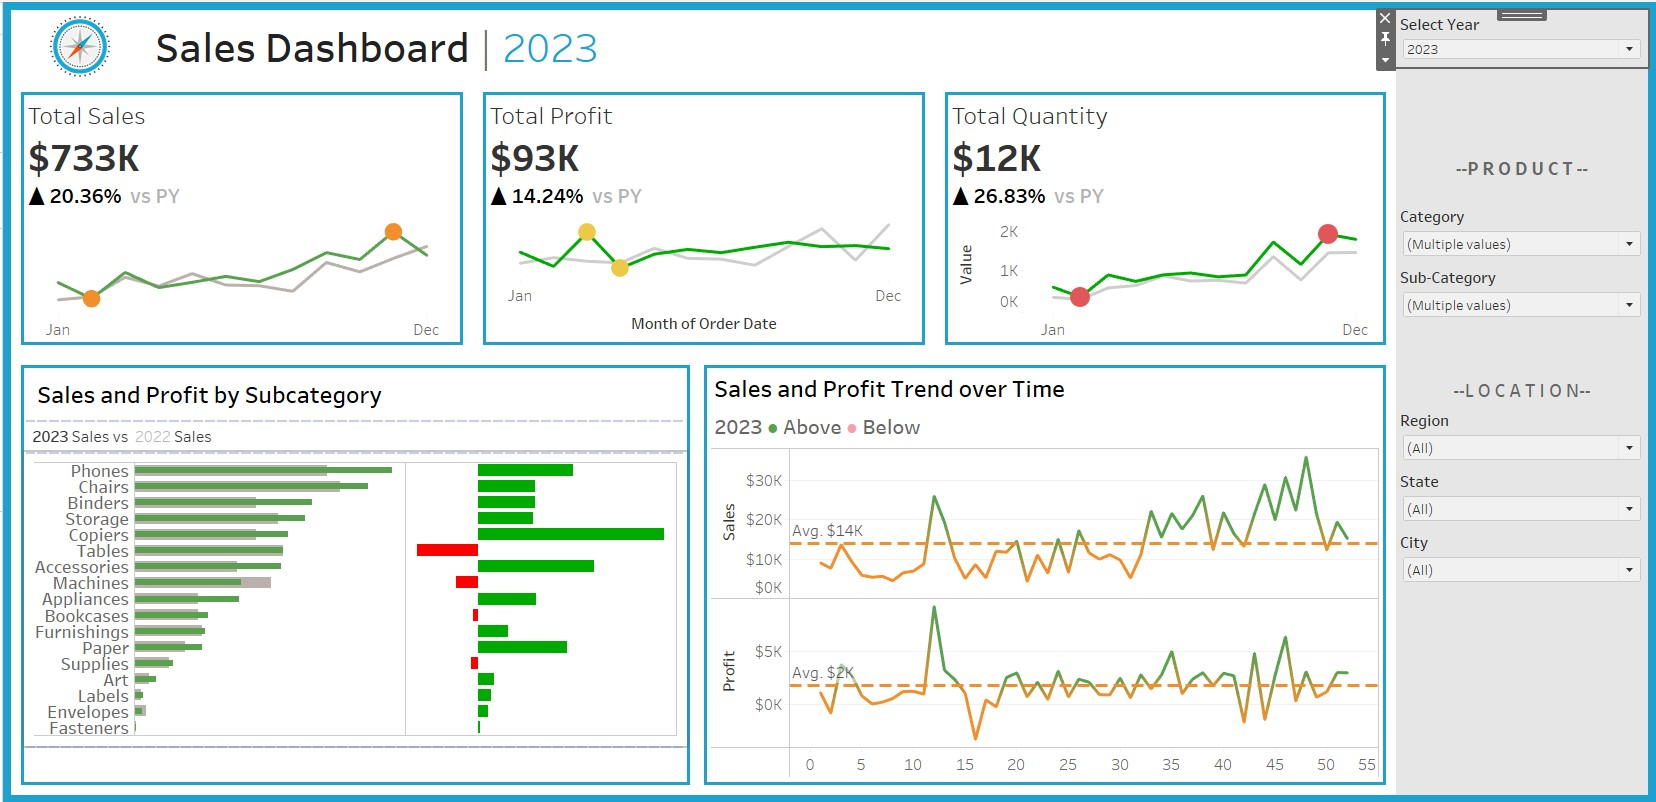

The dashboard page shown, as its layout file describes it:
{"tool":"tableau","page":{"name":"Sales Dashboard","canvas":[1000,1000],"units":"permille","ordinal":0},"visuals":[{"type":"image","param":"C:/Users/kishan/Desktop/PROJECTS/TABLEAU PROJECT/Icons/Icon - Logo.png","box":[4.8,10,82.7,89.9]},{"type":"text","box":[87.5,10,755,89.9]},{"type":"parameter","param":"[Parameters].[Parameter 1]","box":[842.5,10,152.7,71.2]},{"type":"blank","box":[842.5,81.2,152.7,82.4]},{"type":"worksheet","title":"KPI Sales","mark":"Automatic","rows":["Calculation_85005462733004806"],"cols":["Order Date"],"box":[4.8,99.9,279.5,340.8]},{"type":"worksheet","title":"KPI Profit","mark":"Line","rows":["Min/Max Sales (copy)_1107322578164170757"],"cols":["Order Date"],"box":[284.3,99.9,279.5,340.8]},{"type":"worksheet","title":"KPI Quantity","mark":"Automatic","rows":["Min/Max Sales (copy)_1107322578175750160"],"cols":["Order Date"],"box":[563.8,99.9,278.9,340.8]},{"type":"text","box":[842.5,163.6,152.7,86.1]},{"type":"filter","title":"KPI Sales","param":"[federated.10juh3h0s9c6ct11oszb21uldvnt].[none:Category:nk]","box":[842.5,249.7,152.7,76.2]},{"type":"filter","title":"KPI Sales","param":"[federated.10juh3h0s9c6ct11oszb21uldvnt].[none:Sub-Category:nk]","box":[842.5,325.9,152.7,76.2]},{"type":"blank","box":[842.5,402,152.7,61.2]},{"type":"text","box":[12.7,456.9,401.1,64.9]},{"type":"text","box":[425.9,456.9,409,49.9]},{"type":"text","box":[842.5,463.2,152.7,41.2]},{"type":"filter","title":"KPI Sales","param":"[federated.10juh3h0s9c6ct11oszb21uldvnt].[none:Region:nk]","box":[842.5,504.4,152.7,76.2]},{"type":"text","box":[425.9,506.9,409,45]},{"type":"worksheet","title":"Legend Subcategory","mark":"Automatic","box":[12.7,521.9,401.1,40]},{"type":"worksheet","title":"Weekly Trends","mark":"Automatic","rows":["Calculation_85005462700453888","Calculation_1107322578158891010"],"cols":["Order Date"],"box":[425.9,551.8,409,422]},{"type":"worksheet","title":"Subcategory Comparison","mark":"Bar","rows":["Sub-Category"],"cols":["CY Sales (copy)_85005462700949505","Calculation_85005462700453888","Calculation_1107322578158891010"],"box":[12.7,561.8,401.1,367]},{"type":"filter","title":"KPI Sales","param":"[federated.10juh3h0s9c6ct11oszb21uldvnt].[none:State:nk]","box":[842.5,580.6,152.7,76.2]},{"type":"filter","title":"KPI Sales","param":"[federated.10juh3h0s9c6ct11oszb21uldvnt].[none:City:nk]","box":[842.5,656.7,152.7,76.2]}]}

Visuals, with their boxes on the dashboard's canvas, which has no fixed pixel size, in thousandths of its width and height (x1, y1, x2, y2). These are canvas units, not pixel positions in the 1656x802 screenshot, which may show the page scaled, cropped or inside an application window:
image: crop(5, 10, 88, 100)
text: crop(88, 10, 842, 100)
parameter: crop(842, 10, 995, 81)
blank: crop(842, 81, 995, 164)
"KPI Sales" worksheet: crop(5, 100, 284, 441)
"KPI Profit" worksheet (Line marks): crop(284, 100, 564, 441)
"KPI Quantity" worksheet: crop(564, 100, 843, 441)
text: crop(842, 164, 995, 250)
"KPI Sales" filter: crop(842, 250, 995, 326)
"KPI Sales" filter: crop(842, 326, 995, 402)
blank: crop(842, 402, 995, 463)
text: crop(13, 457, 414, 522)
text: crop(426, 457, 835, 507)
text: crop(842, 463, 995, 504)
"KPI Sales" filter: crop(842, 504, 995, 581)
text: crop(426, 507, 835, 552)
"Legend Subcategory" worksheet: crop(13, 522, 414, 562)
"Weekly Trends" worksheet: crop(426, 552, 835, 974)
"Subcategory Comparison" worksheet (Bar marks): crop(13, 562, 414, 929)
"KPI Sales" filter: crop(842, 581, 995, 657)
"KPI Sales" filter: crop(842, 657, 995, 733)
